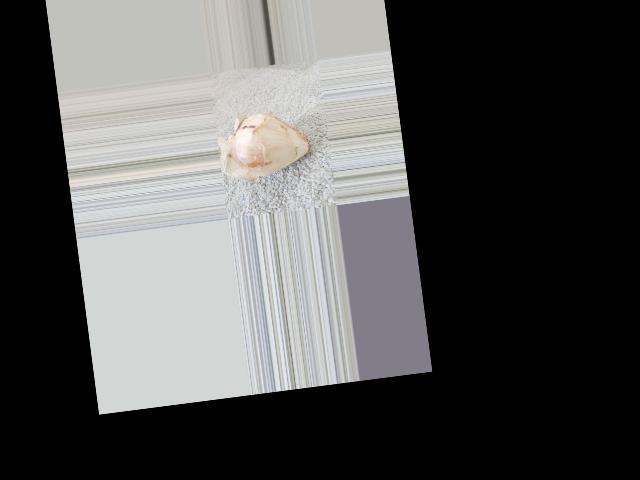onion: (233, 106, 313, 174)
